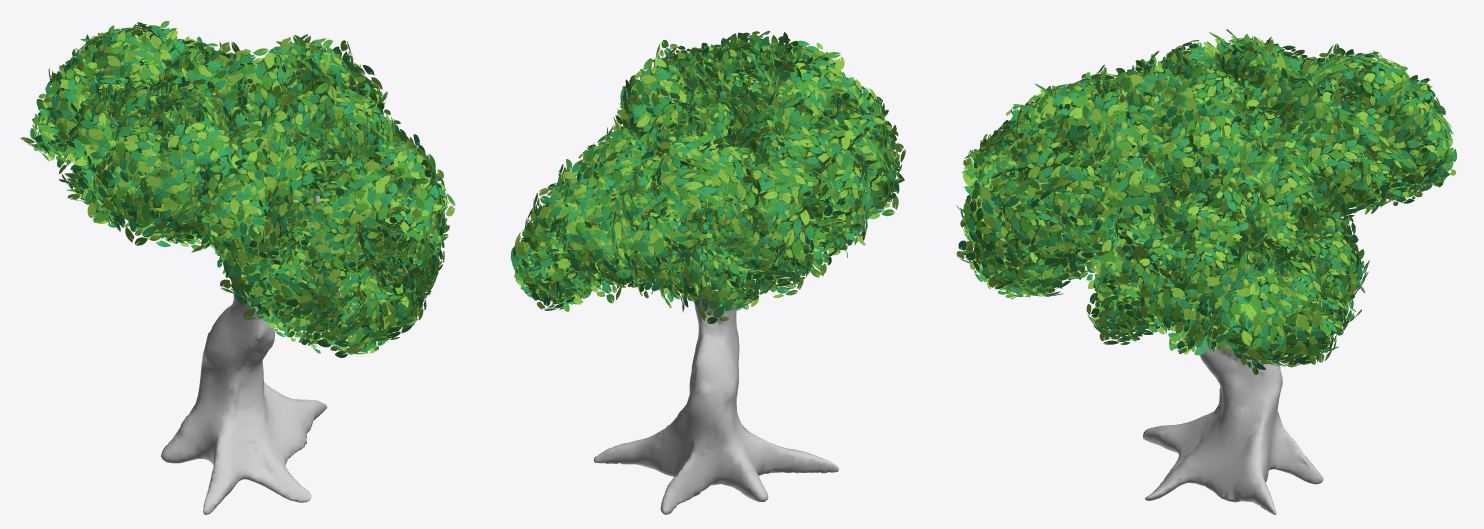
Rendered from sTree(Txtr).fbx.
The picture shows the model from 3 angles, left to right: view 1: azimuth 30°, elevation 25°; view 2: azimuth 150°, elevation 25°; view 3: azimuth 270°, elevation 25°; orthographic projection. The views are drawn at different scales.
Parts seen in each view (by area): view 1: tree + leaves; view 2: tree + leaves; view 3: tree + leaves.
Boxes of the visible parts, x1,y1,x2,y2 form: tree + leaves: (19, 21, 455, 514); tree + leaves: (510, 30, 905, 514); tree + leaves: (956, 29, 1456, 514).
Size of the model in its own units: 29915 by 35484 by 37264.
